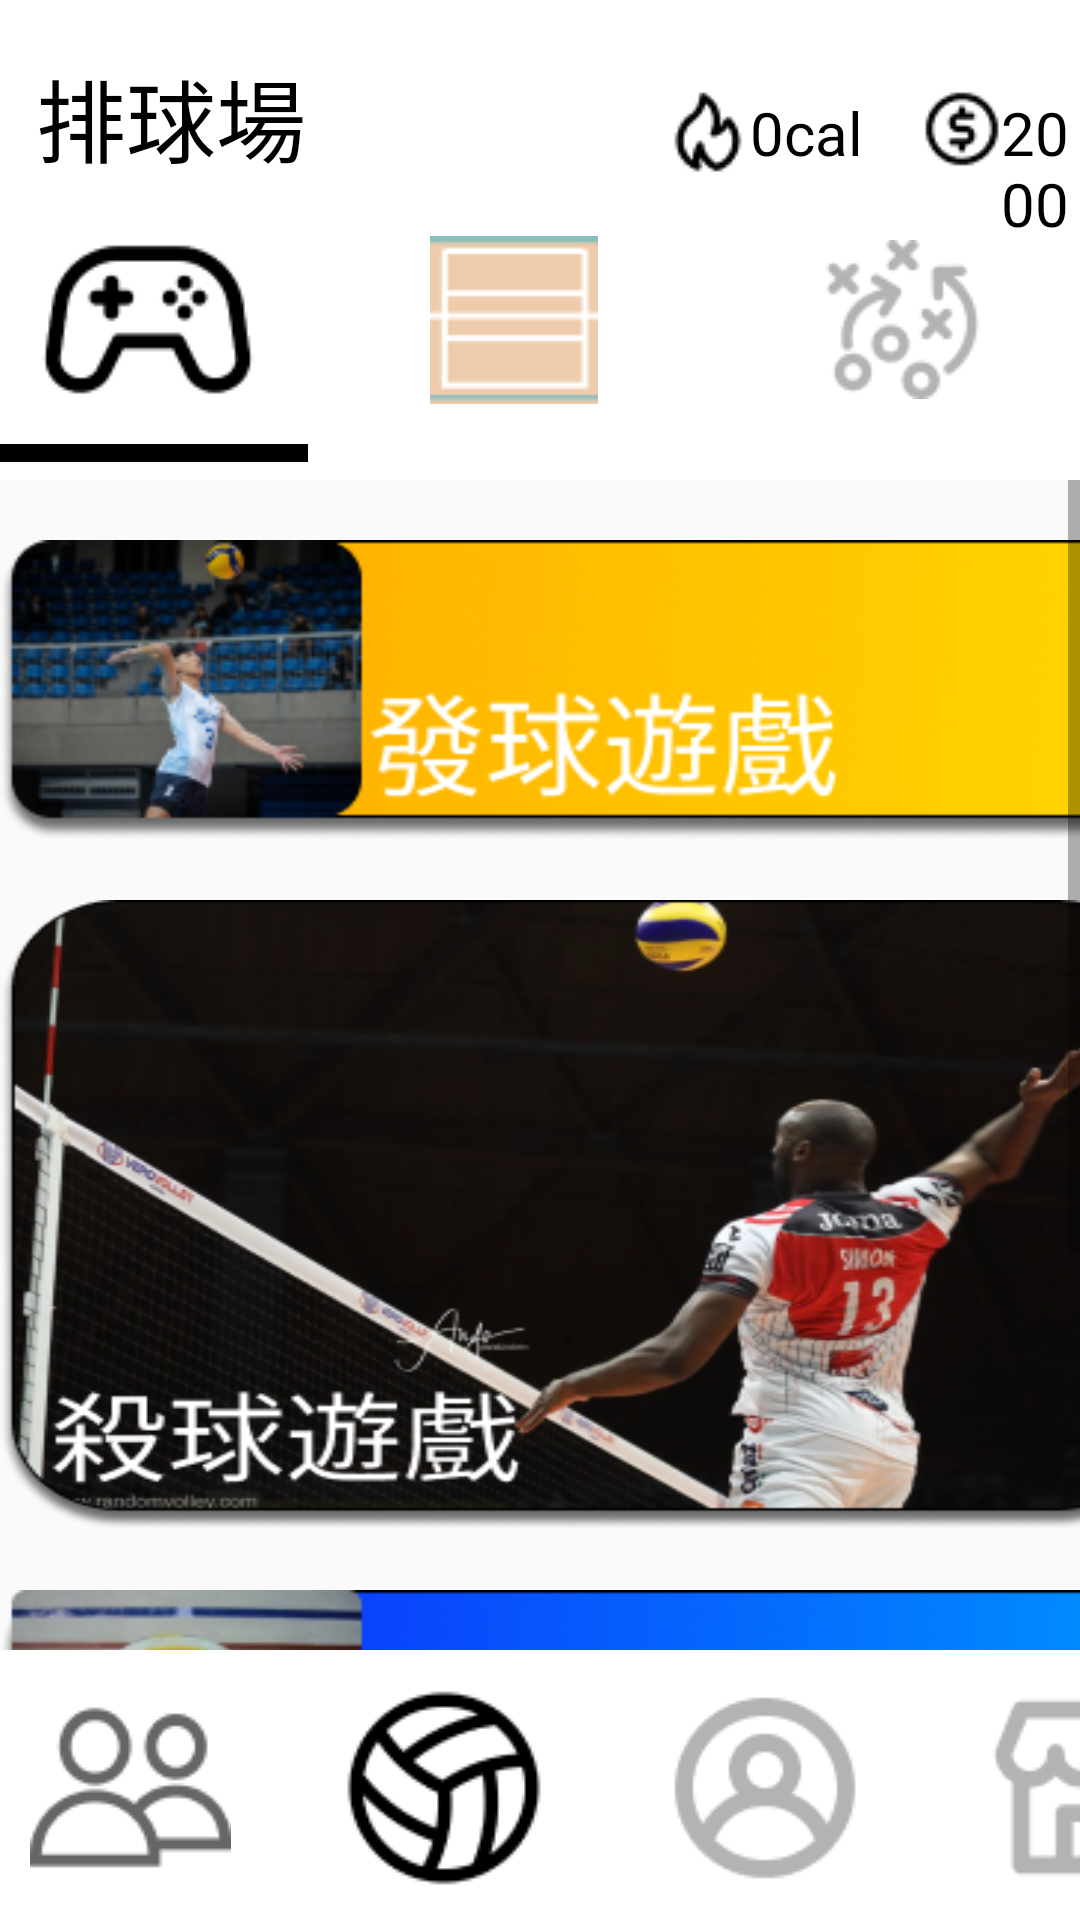

Where icons sit on this 1080w x 1920h app screen, as (x1,y1,x2,y2):
friends: (30,1707,231,1868)
gameb: (44,245,252,394)
profile: (675,1697,855,1878)
strategy: (828,240,978,399)
volleyballb: (347,1691,541,1885)
